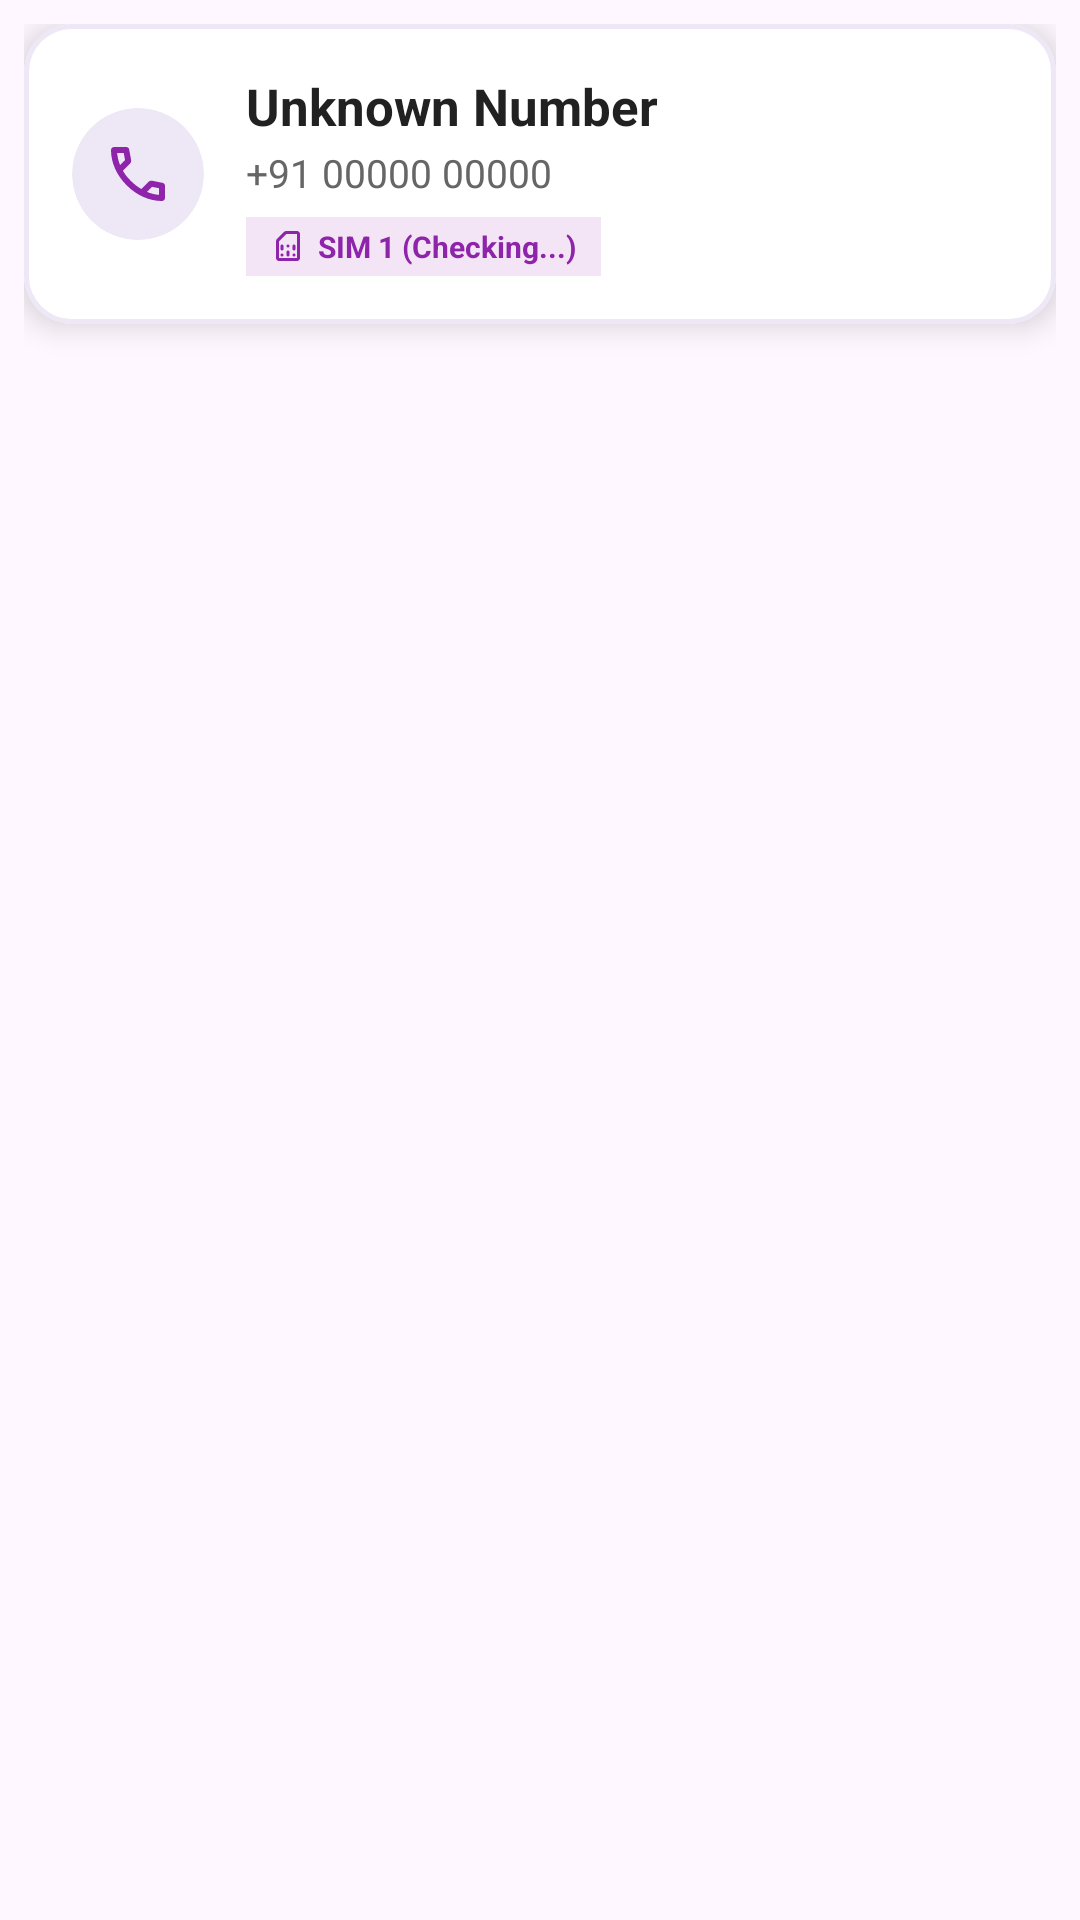

Locate icon controls on the screen. Image size 1080*1920, boxes as BBox(x1, y1, x2, y2).
phone: BBox(111, 147, 165, 201)
